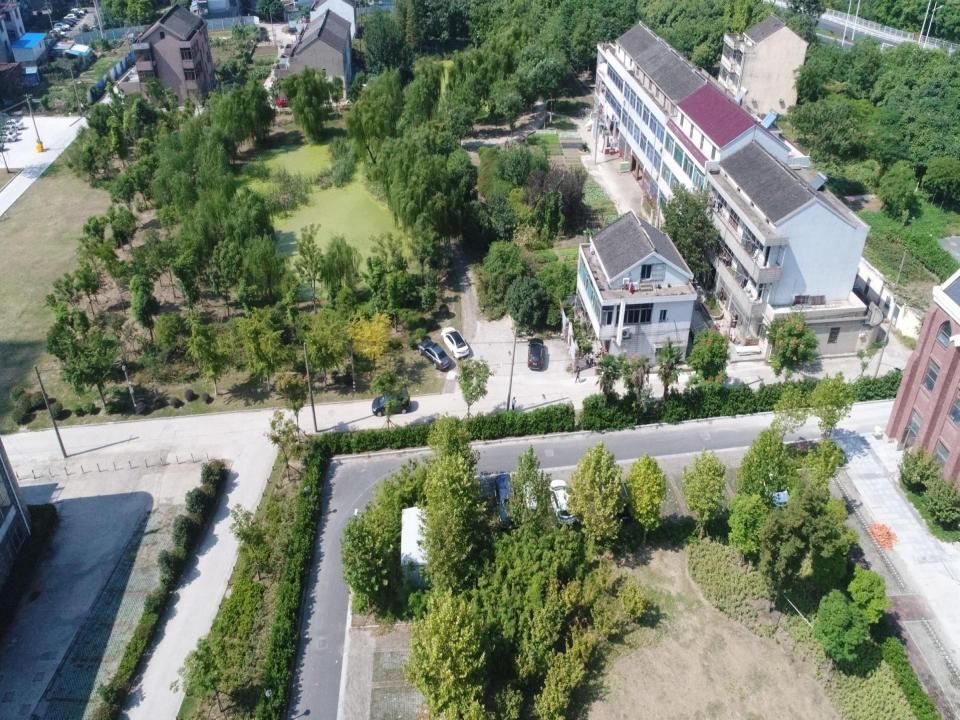car: (494, 473, 520, 531), (549, 477, 578, 527), (369, 389, 412, 417), (416, 336, 451, 369), (762, 469, 792, 507), (441, 326, 469, 359), (528, 335, 544, 371), (0, 131, 19, 145), (3, 119, 25, 131), (276, 96, 296, 108), (53, 22, 71, 33), (48, 29, 67, 39), (57, 18, 75, 28), (69, 7, 85, 17), (67, 9, 81, 20), (63, 13, 78, 22)
